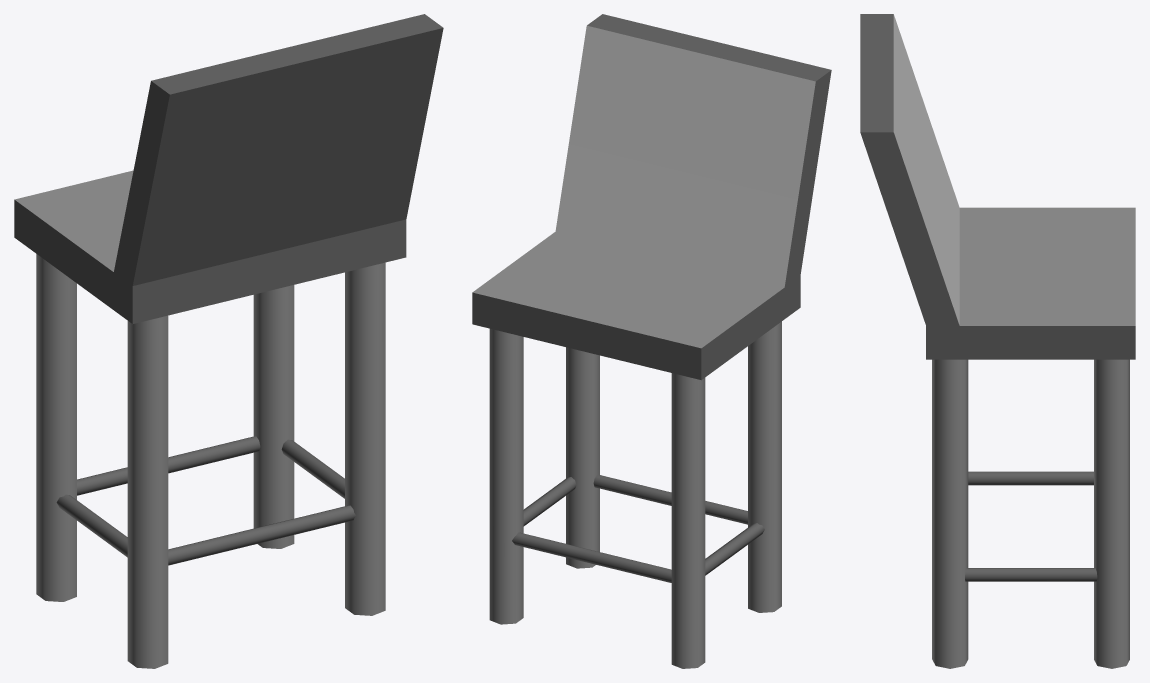
The model's file is Kitchen_Bar_Chair1_Gray.fbx.
The picture shows the model from 3 angles, left to right: view 1: azimuth 30°, elevation 25°; view 2: azimuth 150°, elevation 25°; view 3: azimuth 270°, elevation 25°; orthographic projection. The views are drawn at different scales.
Parts seen in each view (by area): view 1: Kitchen_Bar_Chair1_Gray; view 2: Kitchen_Bar_Chair1_Gray; view 3: Kitchen_Bar_Chair1_Gray.
Boxes of the visible parts, x1=… form: Kitchen_Bar_Chair1_Gray: x1=14, y1=14, x2=443, y2=668; Kitchen_Bar_Chair1_Gray: x1=472, y1=14, x2=831, y2=668; Kitchen_Bar_Chair1_Gray: x1=860, y1=14, x2=1135, y2=668.
Size of the model in its own units: 41.57 by 88.58 by 40.94.
